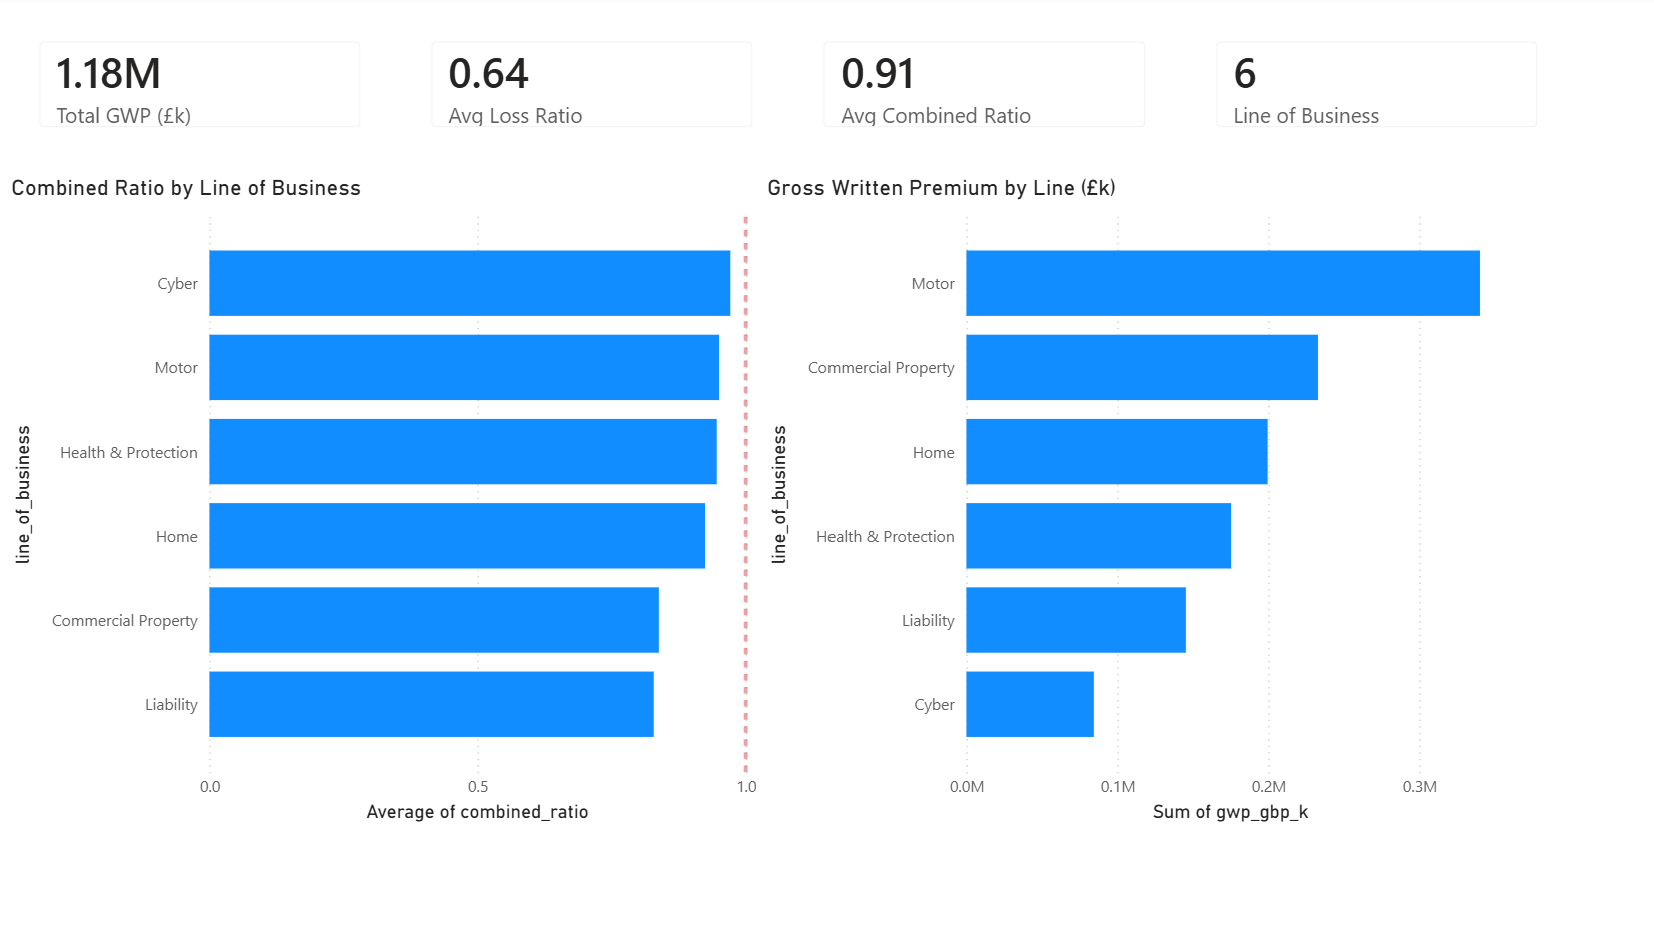

This screenshot's page, from the dashboard's own definition file:
{"tool":"powerbi","page":{"name":"Insurance","canvas":[1280,720],"ordinal":2},"visuals":[{"type":"cardVisual","fields":{"Data":["Sum(ins_claims_premiums.gwp_gbp_k)"]},"box":[20,20,280,100],"z":0},{"type":"cardVisual","fields":{"Data":["Avg(ins_claims_premiums.loss_ratio)"]},"box":[320,20,280,100],"z":1},{"type":"cardVisual","fields":{"Data":["Avg(ins_claims_premiums.combined_ratio)"]},"box":[620,20,280.2,100],"z":2},{"type":"cardVisual","fields":{"Data":["Count(ins_claims_premiums.line_of_business)"]},"box":[920,20,280,100],"z":3},{"type":"clusteredBarChart","title":"Combined Ratio by Line of Business","fields":{"Category":["ins_claims_premiums.line_of_business"],"Y":["Avg(ins_claims_premiums.combined_ratio)"]},"box":[10,140,580,500],"z":4},{"type":"clusteredBarChart","title":"Gross Written Premium by Line (£k)","fields":{"Category":["ins_claims_premiums.line_of_business"],"Y":["Sum(ins_claims_premiums.gwp_gbp_k)"]},"box":[590,140,580,500],"z":5}]}

Visuals, with their boxes in screenshot pixels (x1, y1, x2, y2), scaled from the page's 1280x720 canvas onto the 1654x926 screenshot:
cardVisual - Sum(ins_claims_premiums.gwp_gbp_k): box=[26, 26, 388, 154]
cardVisual - Avg(ins_claims_premiums.loss_ratio): box=[414, 26, 775, 154]
cardVisual - Avg(ins_claims_premiums.combined_ratio): box=[801, 26, 1163, 154]
cardVisual - Count(ins_claims_premiums.line_of_business): box=[1189, 26, 1551, 154]
"Combined Ratio by Line of Business" clusteredBarChart: box=[13, 180, 762, 823]
"Gross Written Premium by Line (£k)" clusteredBarChart: box=[762, 180, 1512, 823]
